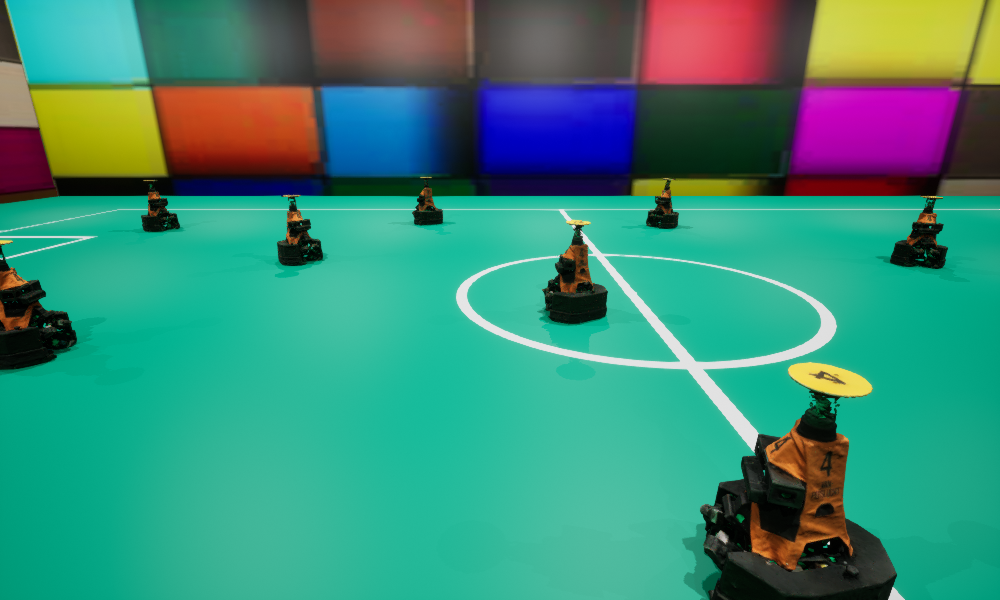o: (700, 362, 896, 599), (0, 240, 76, 369), (542, 220, 607, 323), (890, 196, 947, 267), (277, 195, 322, 265), (141, 180, 179, 231), (646, 178, 678, 228), (412, 177, 442, 224)
